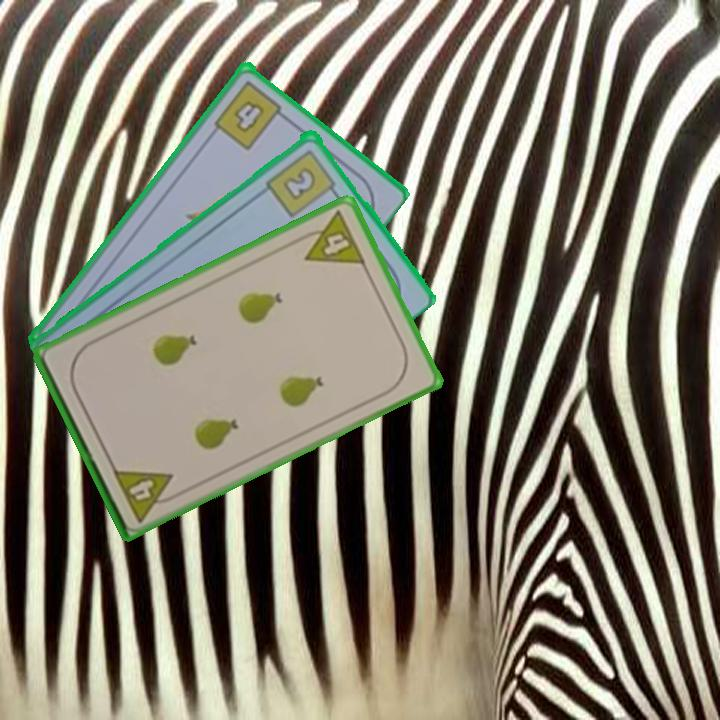2b: (262, 145, 342, 220)
4b: (210, 76, 291, 152)
4p: (292, 207, 369, 268), (109, 464, 183, 525)
